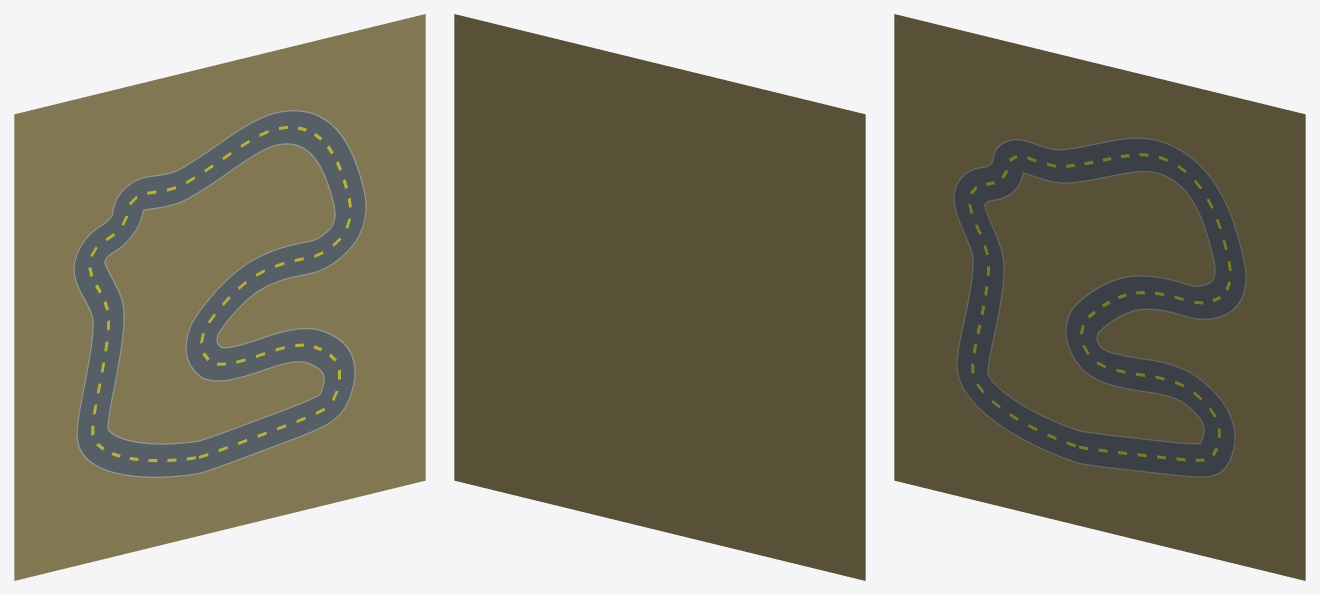
The model's file is track.obj.
3 views of the same model, side by side, from view 1: azimuth 30°, elevation 25°; view 2: azimuth 150°, elevation 25°; view 3: azimuth 330°, elevation 25° (orthographic).
Size of the model in its own units: 13.62 by 14.77 by 0.0025.
4 materials, 4 textured.
